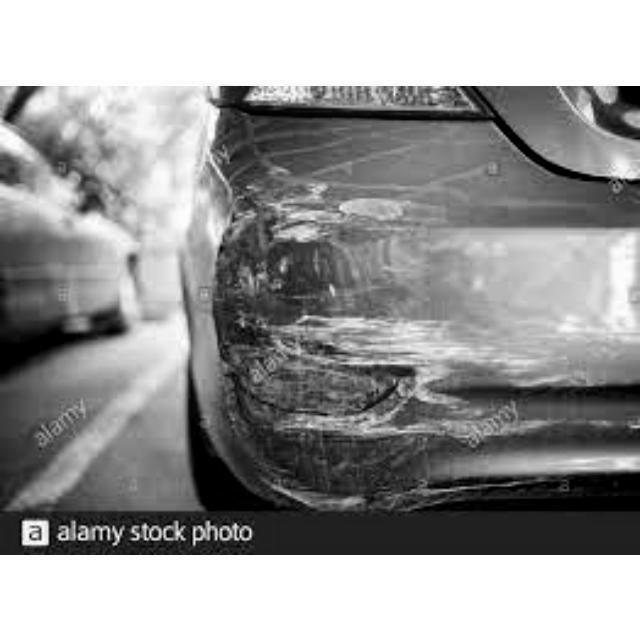rear-bumper-dent: (171, 107, 637, 519)
